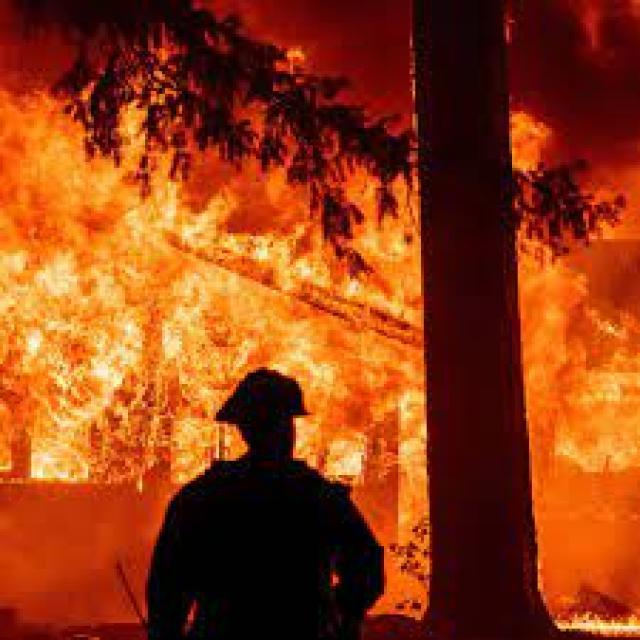Fire: (7, 111, 525, 377), (537, 260, 640, 527), (10, 375, 130, 495)
Smoke: (517, 7, 640, 193)
